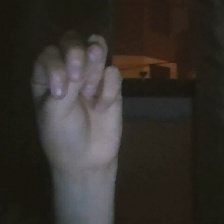N: (25, 23, 140, 184)
